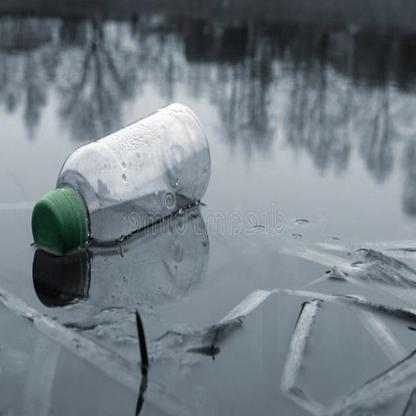plastic bottle: (30, 102, 212, 247)
